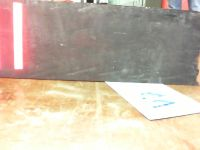switch: (12, 2, 24, 70)
